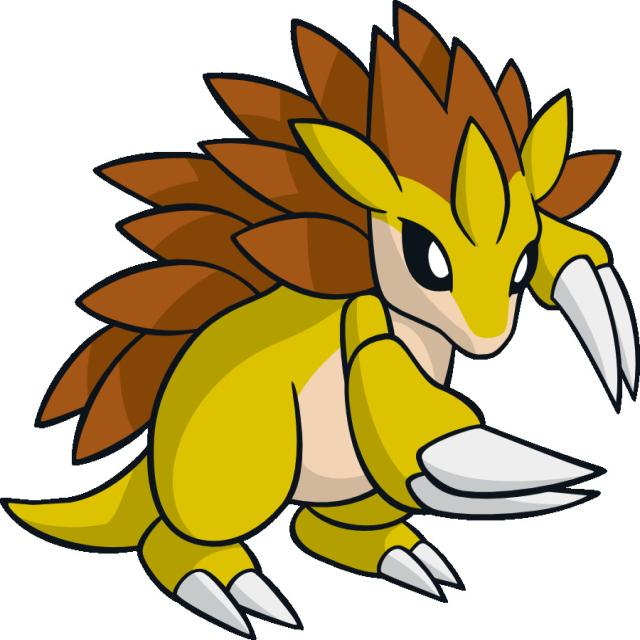Sandslash: (72, 14, 620, 602)
